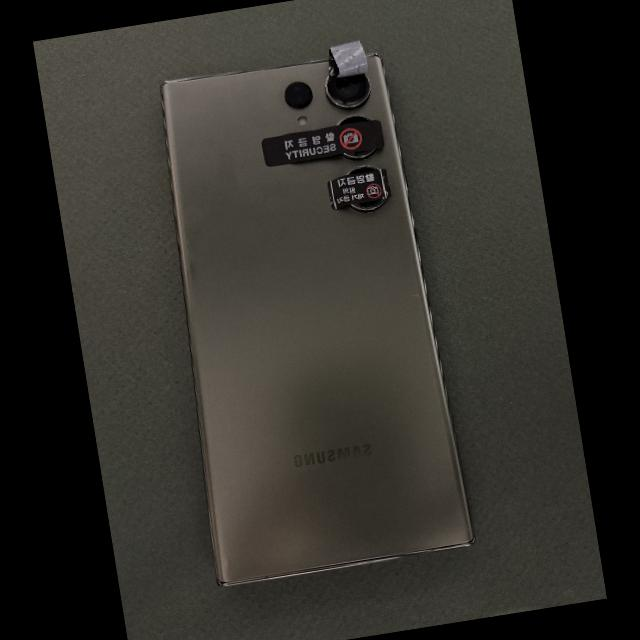lens: (324, 74, 369, 109), (283, 82, 311, 108), (349, 200, 385, 211), (336, 115, 368, 126)
phone: (160, 53, 475, 587)
sticker: (262, 120, 384, 168), (327, 169, 391, 210), (329, 40, 367, 79)
